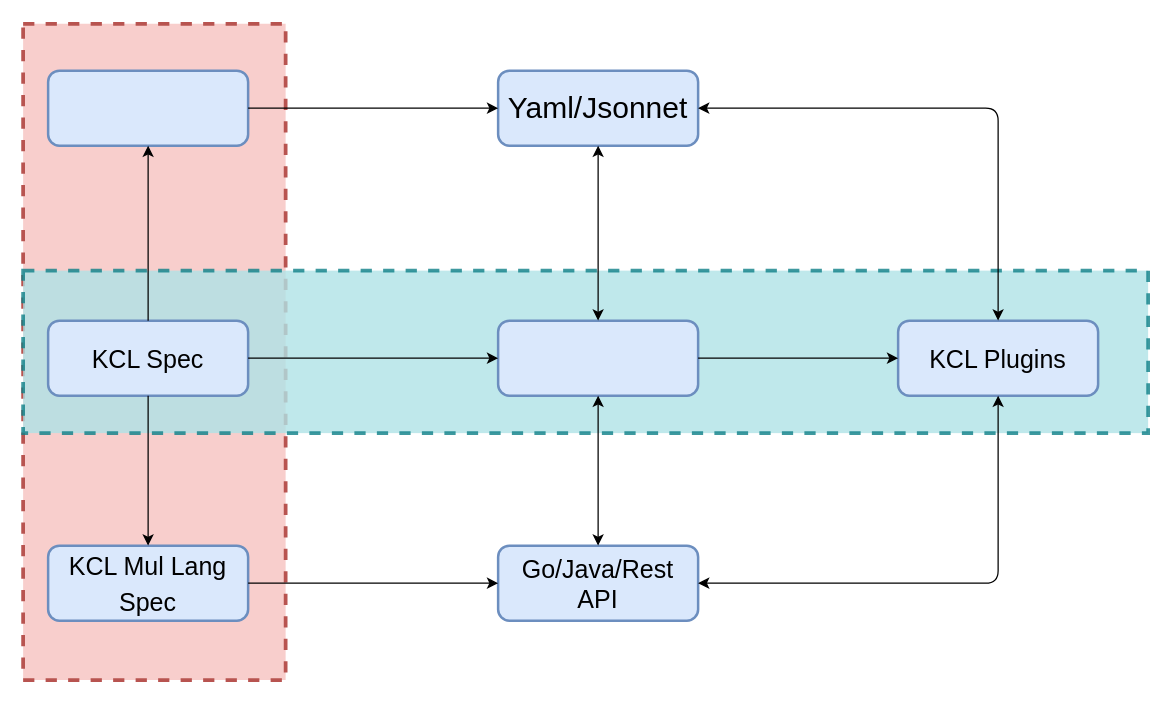
This 1171x703 diagram has some shape labels left out. The centre of each missing label's shape, as x and y in pixels:
"KCL OpenAPI Spec" goes at point 147,107.
"KCLVM" goes at point 597,357.
